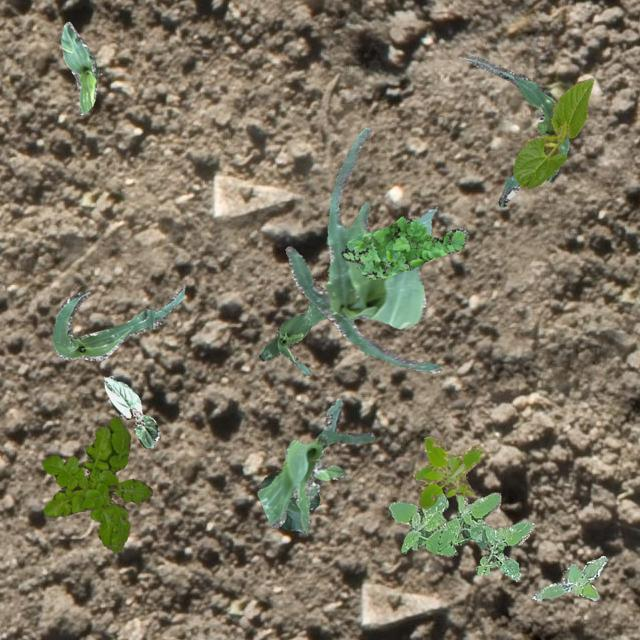crop: (284, 126, 442, 372), (256, 398, 374, 534), (465, 54, 569, 206), (52, 284, 184, 360), (512, 76, 592, 188), (258, 300, 326, 374), (102, 374, 158, 448), (260, 468, 318, 532), (60, 20, 98, 114)
weed: (40, 416, 152, 552), (388, 492, 534, 580), (341, 216, 466, 278), (412, 434, 482, 508), (532, 554, 606, 600), (308, 458, 344, 499)
